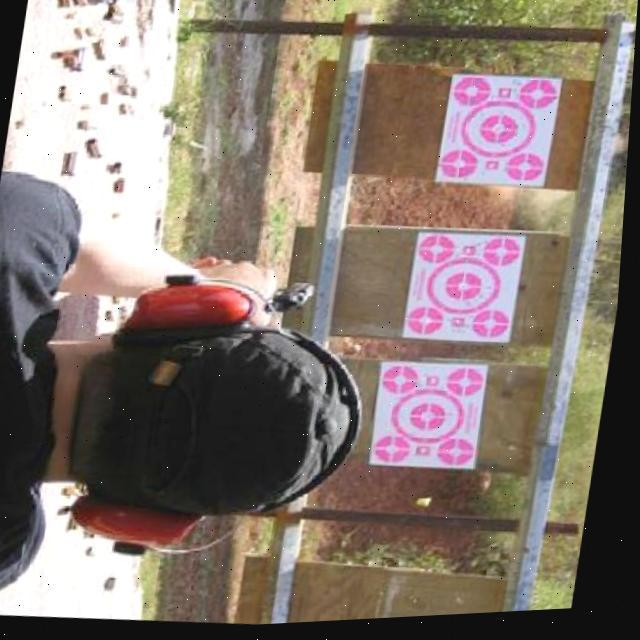gun: (266, 284, 322, 318), (81, 0, 170, 11)
